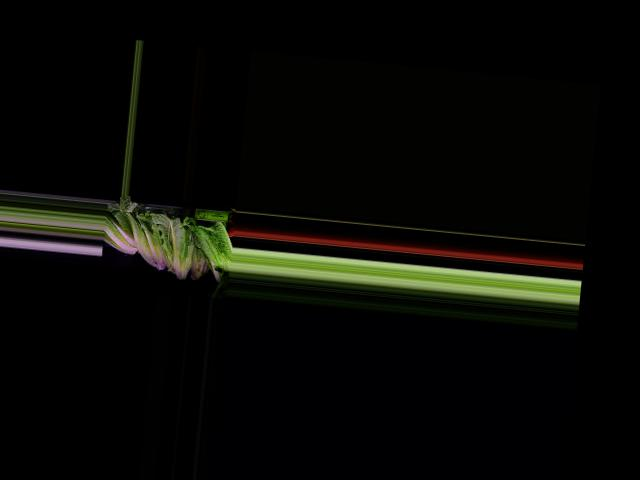lettuce: (101, 212, 143, 257)
